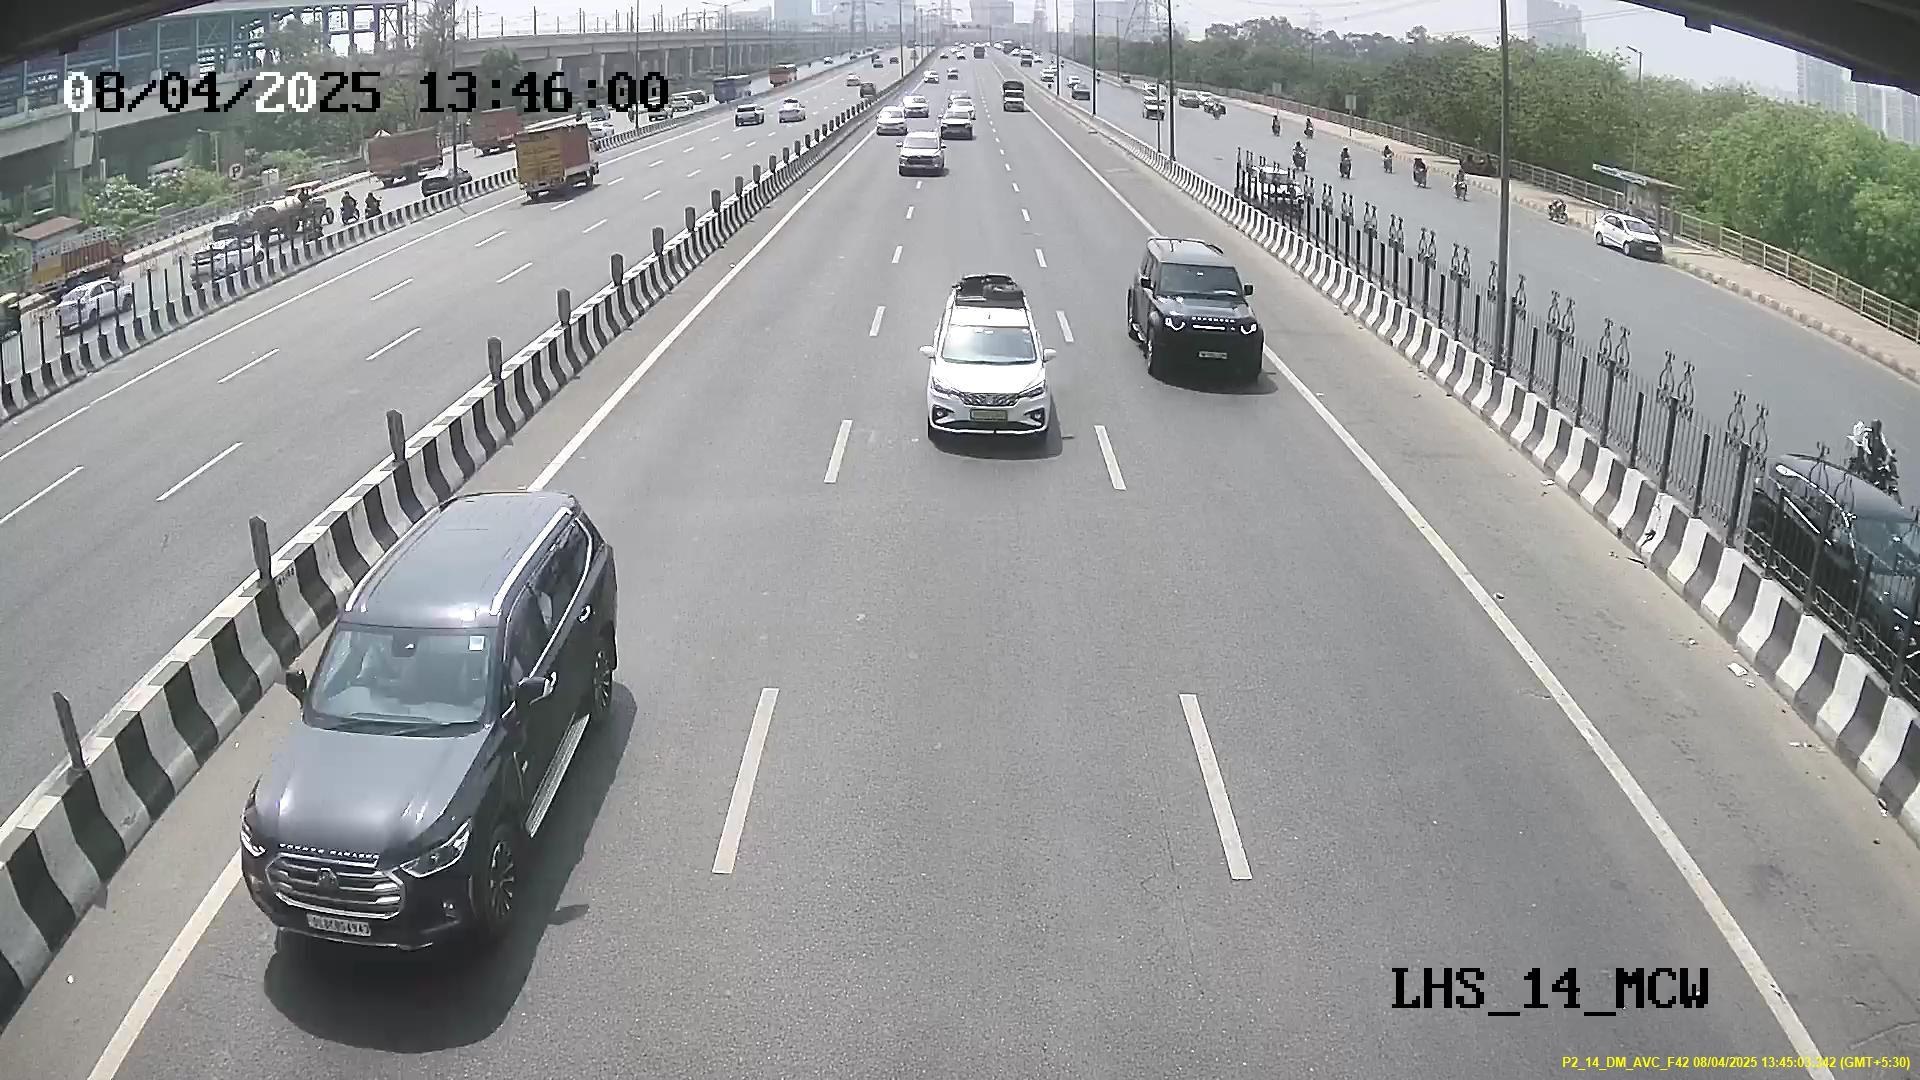car: (239, 584, 568, 951), (1127, 252, 1263, 393), (922, 309, 1055, 446)
